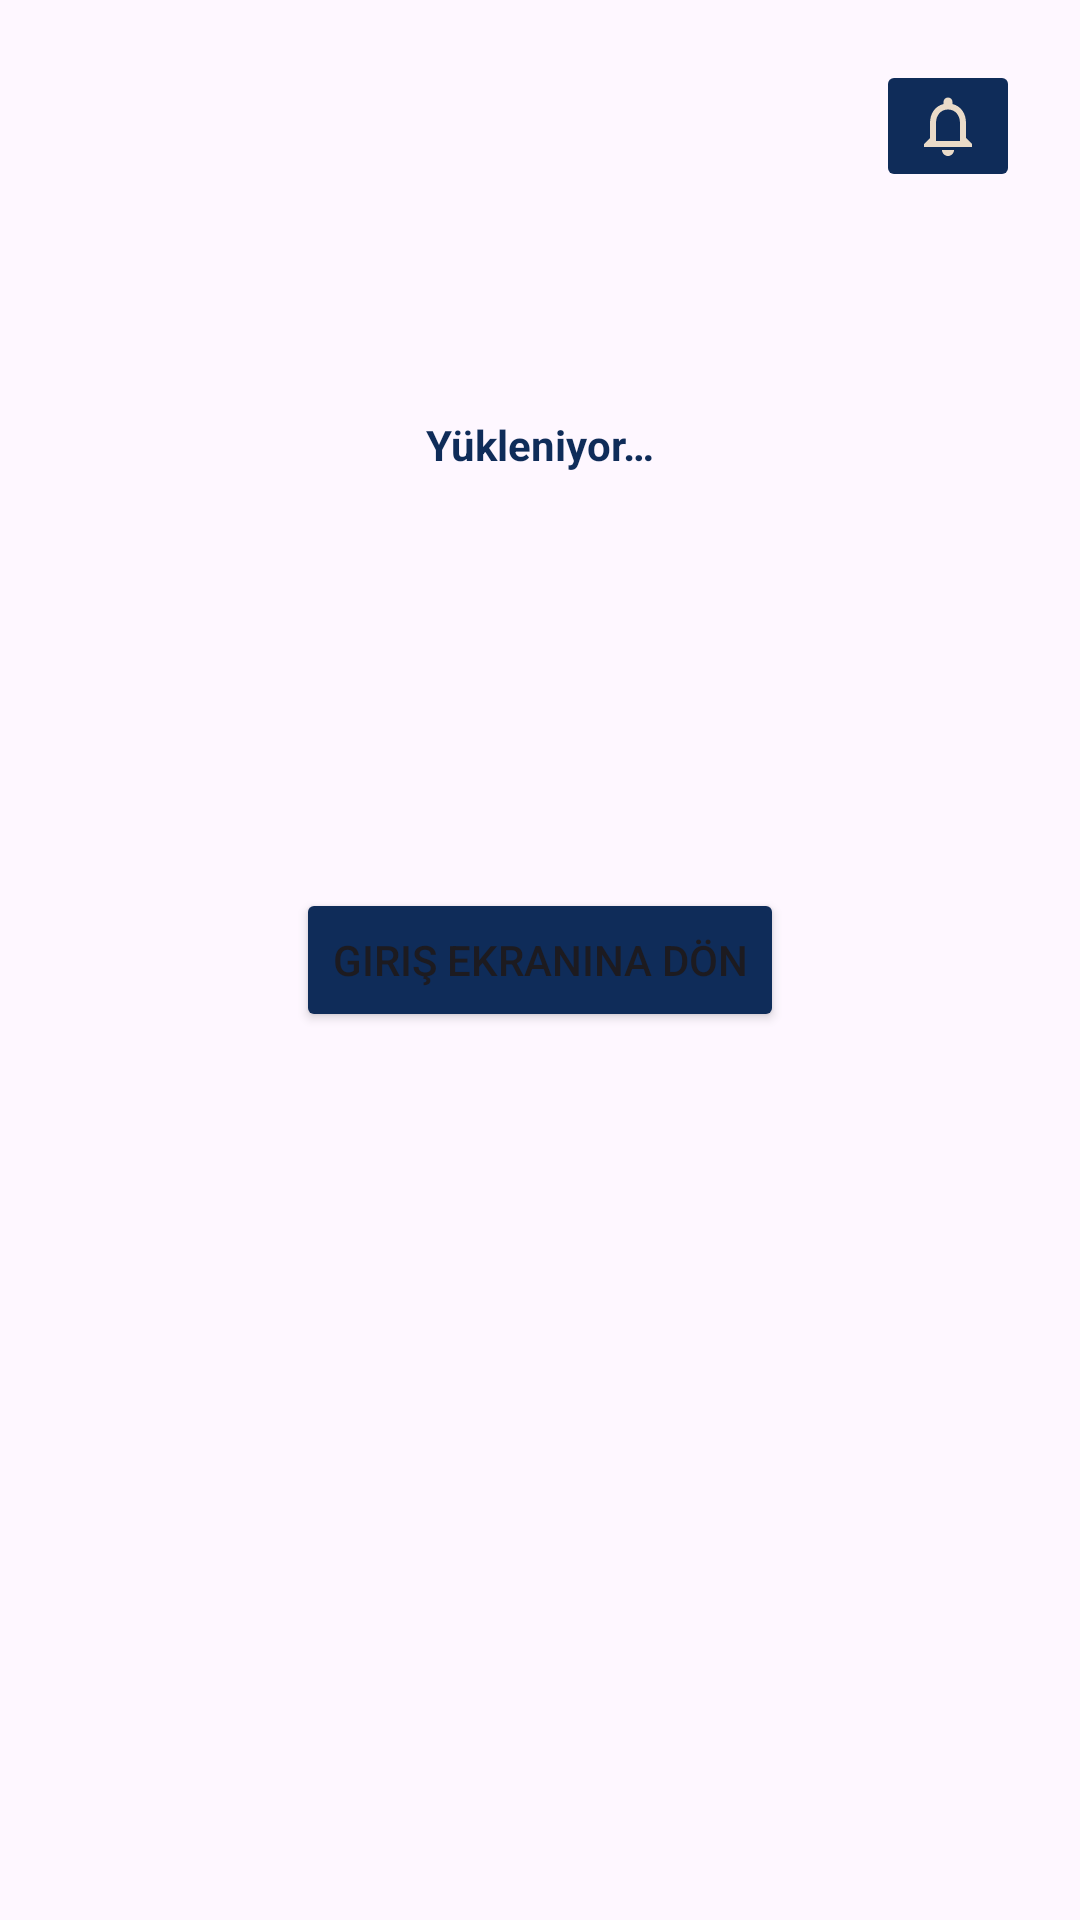

Icon click points for this 1080×1920 phone screenshot, format [x,y]:
bildirim: [948,126]
